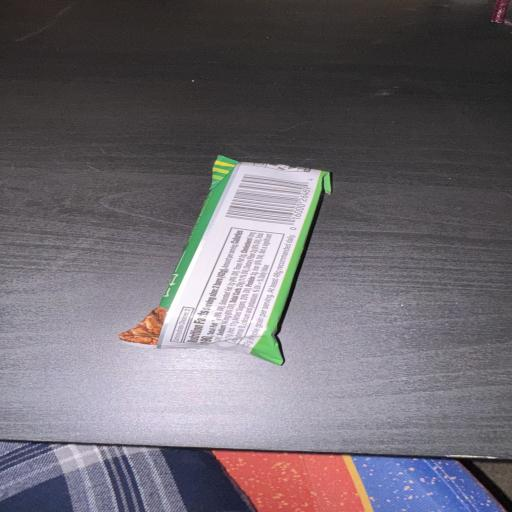granola: (120, 156, 330, 364)
